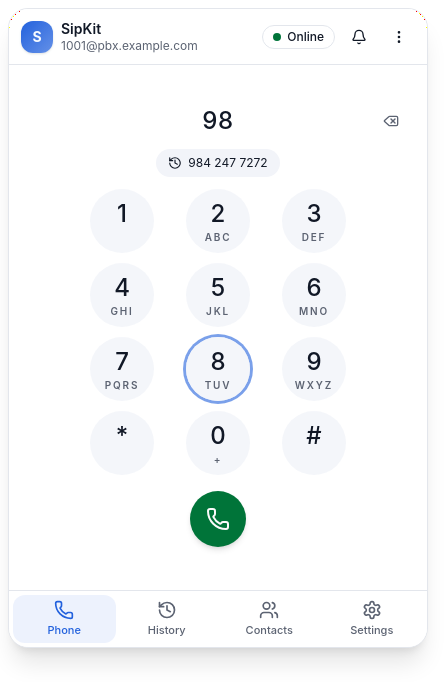
it: dialer autocomplete › offers the best match as a chip when dialling with the keypad
Earlier steps of the test are not shown.
Step 1. Click the button named "Use 984 247 7272" → click(218, 162), box [156,148,280,176]
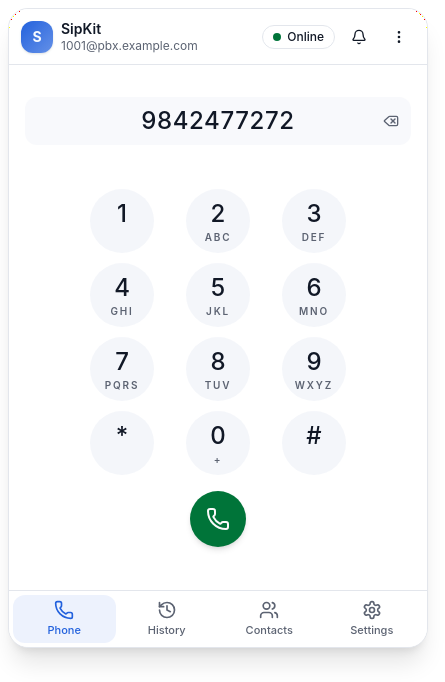
Expected: the dropdown named "Number to dial" holds "9842477272", [25,96,411,144]
